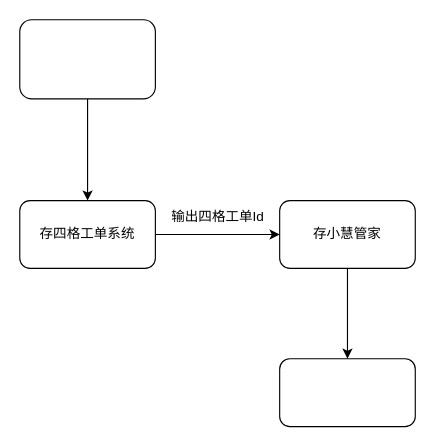
Some shapes in this 435 by 446 pixel diagram are drawn without their labels. The centre of each missing label's shape, as x and y in pixels:
kafka推送设备告警: the point at 87,59
variable_str放四格的工单id: the point at 347,392
